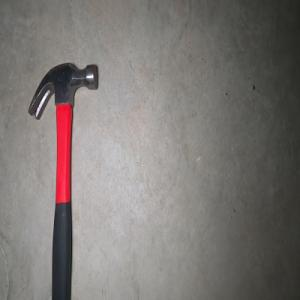Hammer: (26, 60, 98, 300)
